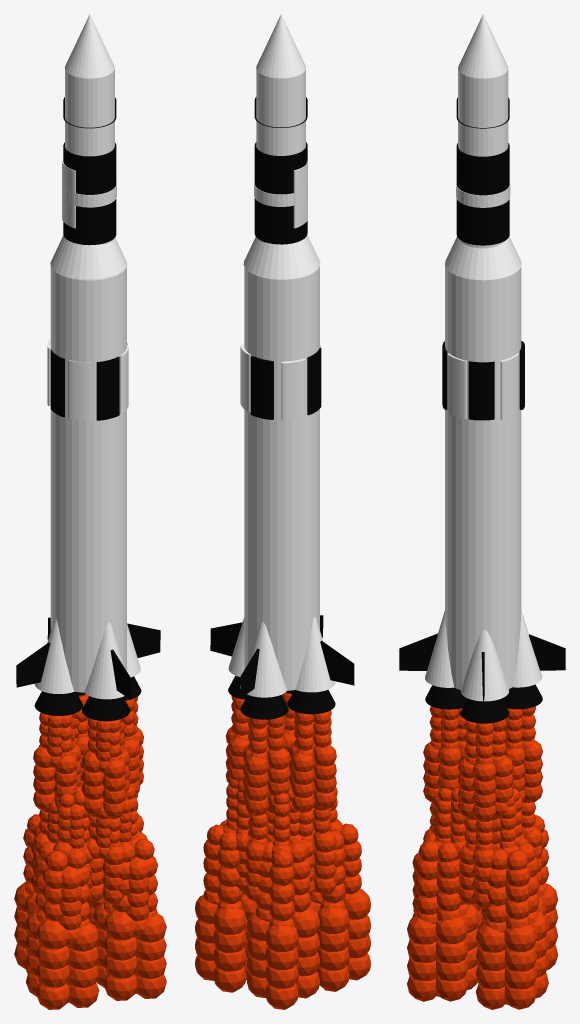
The picture shows the model from 3 angles, left to right: view 1: azimuth 30°, elevation 25°; view 2: azimuth 150°, elevation 25°; view 3: azimuth 270°, elevation 25°; orthographic projection.
Visible parts, largest first — view 1: Cylinder_0, Icosphere.003_1; view 2: Cylinder_0, Icosphere.003_1; view 3: Cylinder_0, Icosphere.003_1.
Boxes of the visible parts, x1,y1,x2,y2 form: Cylinder_0: (16,14,160,721); Icosphere.003_1: (14,694,166,1009); Cylinder_0: (210,14,354,719); Icosphere.003_1: (195,692,370,1009); Cylinder_0: (399,14,565,723); Icosphere.003_1: (407,706,558,1009).
Size of the model in its own units: 20.44 by 131 by 20.37.
